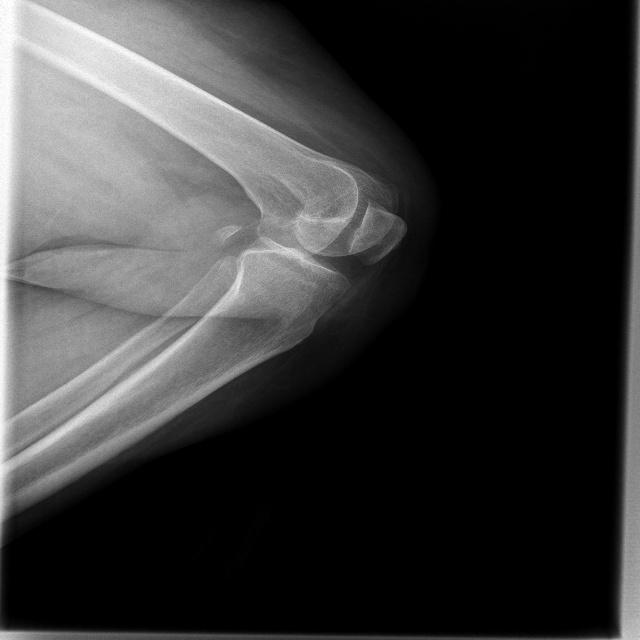Knee: (236, 165, 408, 306)
